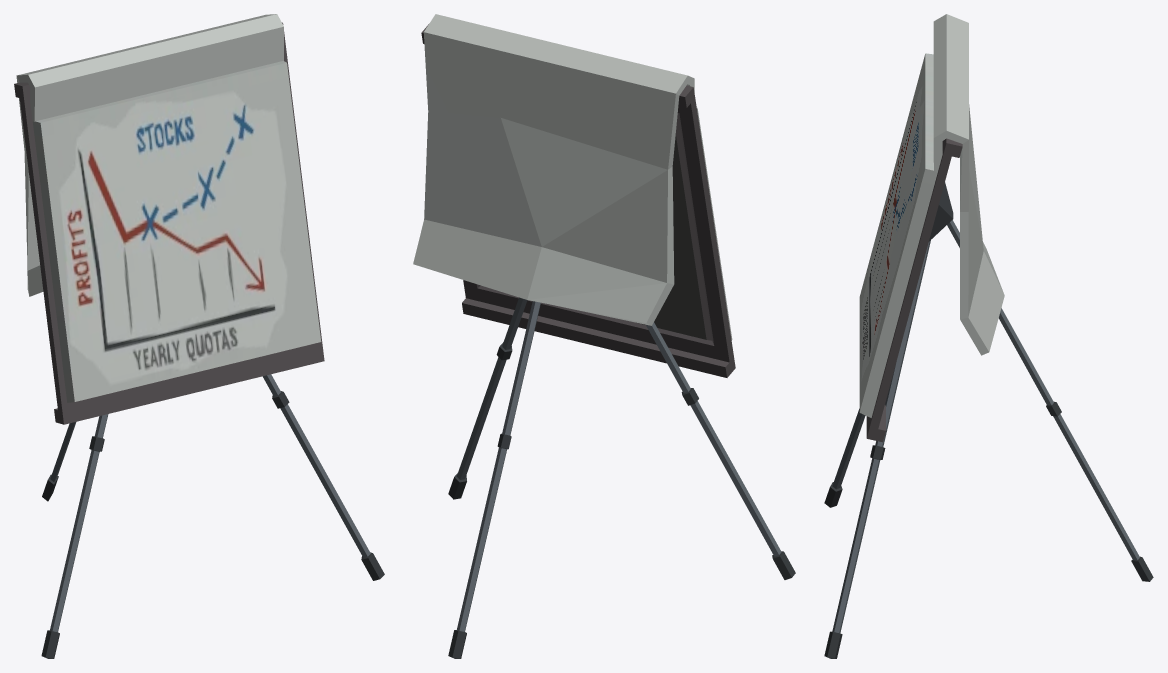
File: Planet.glb
The picture shows the model from 3 angles, left to right: view 1: azimuth 30°, elevation 25°; view 2: azimuth 150°, elevation 25°; view 3: azimuth 270°, elevation 25°; orthographic projection. The views are drawn at different scales.
Parts seen in each view (by area): view 1: SM_Prop_Presentation_Chart_01; view 2: SM_Prop_Presentation_Chart_01; view 3: SM_Prop_Presentation_Chart_01.
Boxes of the visible parts, box(x1,y1,x2,y2) form: SM_Prop_Presentation_Chart_01: box(14, 14, 384, 658); SM_Prop_Presentation_Chart_01: box(413, 14, 795, 658); SM_Prop_Presentation_Chart_01: box(824, 14, 1153, 658).
Size of the model in its own units: 1.22 by 1.82 by 1.07.
Materials: 1 (1 with a texture image).
